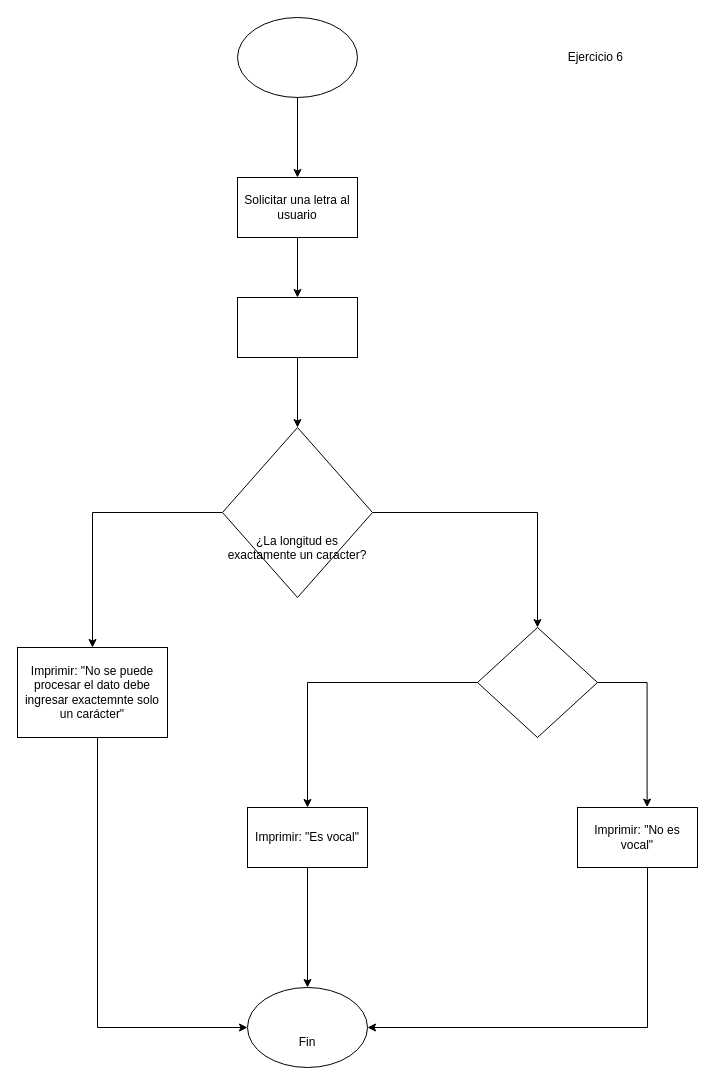
This 715x1085 diagram has some shape labels left out. Each missing label, with the box of its shape:
Inicio: (236, 16, 358, 98)
Leer entradas y eliminar espacios: (236, 296, 358, 358)
¿Es una vocal a,e,i,o,u, á,é,í,ó,ú?: (476, 626, 598, 738)
